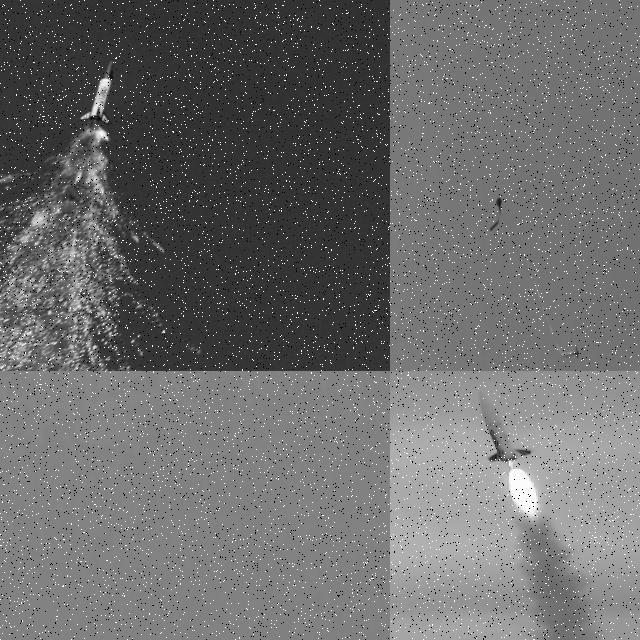Rocket: (478, 389, 534, 463), (79, 60, 114, 126), (562, 349, 578, 358)
